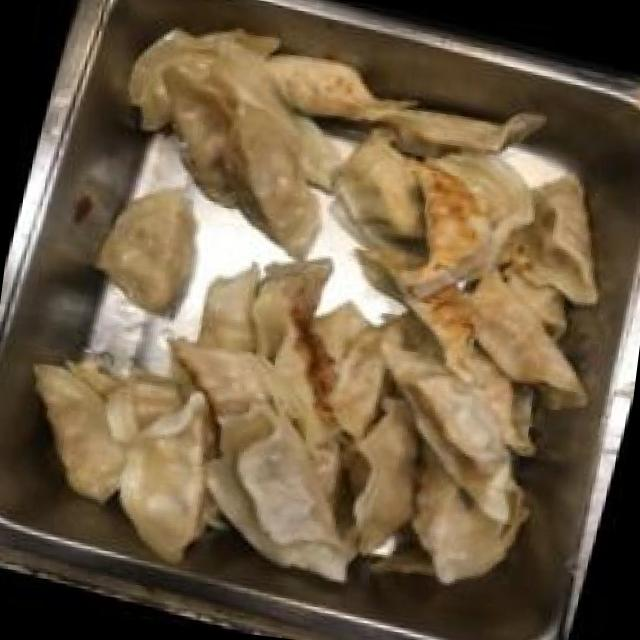fried_dumplings: (26, 10, 630, 592)
